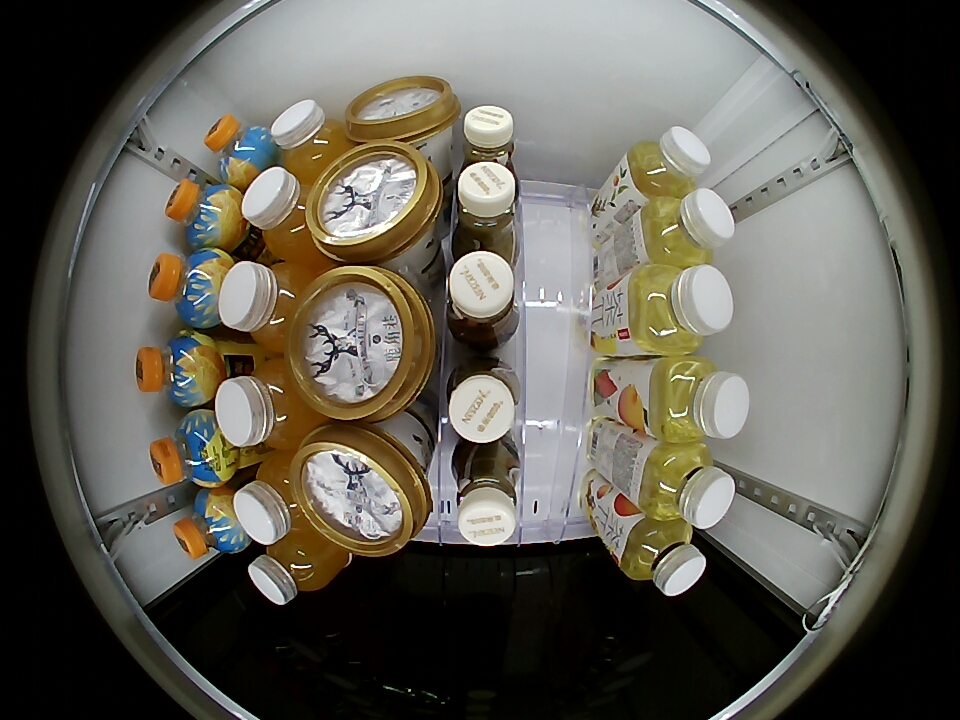chapai2: (628, 262, 733, 355), (637, 442, 735, 529), (649, 357, 749, 442), (639, 188, 735, 265), (618, 518, 707, 596), (625, 127, 711, 202)
guolicheng: (148, 249, 233, 329), (135, 330, 220, 408), (149, 410, 234, 488), (173, 486, 250, 559), (165, 178, 243, 250), (204, 116, 277, 185)
kafei: (451, 442, 521, 546), (445, 250, 520, 347), (451, 161, 520, 259), (445, 359, 520, 445), (459, 105, 519, 179)
lujiaoxiang: (285, 265, 436, 422), (291, 424, 431, 557), (307, 142, 441, 264), (344, 76, 460, 146)
weic: (214, 360, 322, 451), (219, 260, 314, 350), (240, 167, 325, 259), (247, 528, 348, 605), (232, 456, 314, 545), (270, 99, 350, 178)
